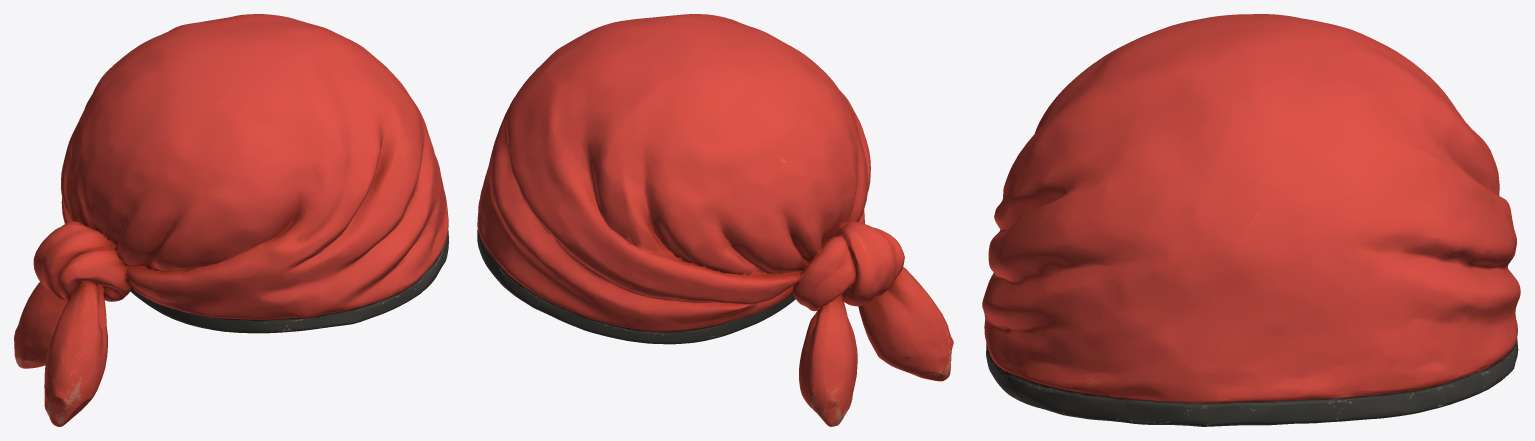
Rendered from headgear_bandana_tripo_raw.glb.
3 views of the same model, side by side, from view 1: azimuth 30°, elevation 25°; view 2: azimuth 150°, elevation 25°; view 3: azimuth 270°, elevation 25° (orthographic). The views are drawn at different scales.
Parts seen in each view (by area): view 1: tripo_node_e46a05d7-2b3c-4134-9239-4822bf614730; view 2: tripo_node_e46a05d7-2b3c-4134-9239-4822bf614730; view 3: tripo_node_e46a05d7-2b3c-4134-9239-4822bf614730.
Part boxes in pixels (box(x1,y1,x2,y2)): tripo_node_e46a05d7-2b3c-4134-9239-4822bf614730: box(14, 14, 448, 426); tripo_node_e46a05d7-2b3c-4134-9239-4822bf614730: box(477, 14, 953, 426); tripo_node_e46a05d7-2b3c-4134-9239-4822bf614730: box(982, 14, 1520, 426).
Bounding box in the file's own units: 1 × 0.7359 × 0.8344.
Materials: 1 (1 with a texture image).
